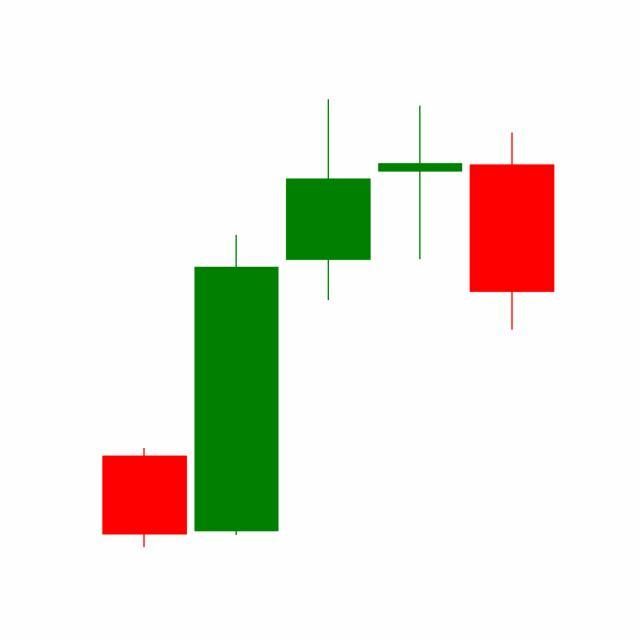Evening Star: (280, 99, 555, 334)
